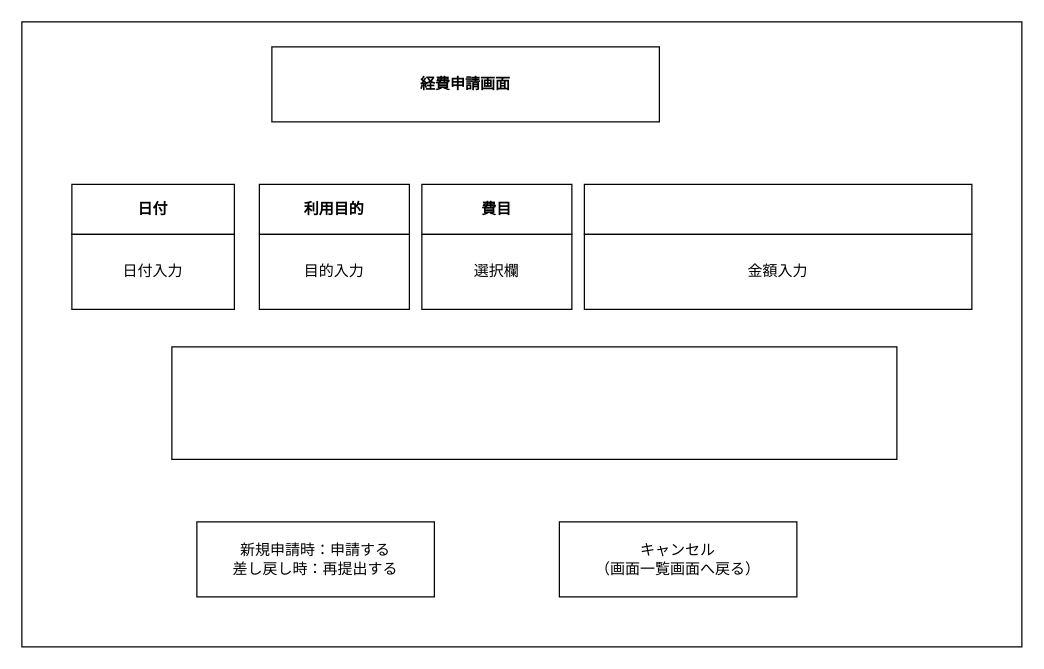
Some shapes in this 1044 by 669 pixel diagram are drawn without their labels. The centre of each missing label's shape, as x and y in pixels:
"差し戻し理由（差し戻し申請の修正時のみ表示・閲覧のみ）" goes at point (534, 402).
"金額" goes at point (777, 208).
